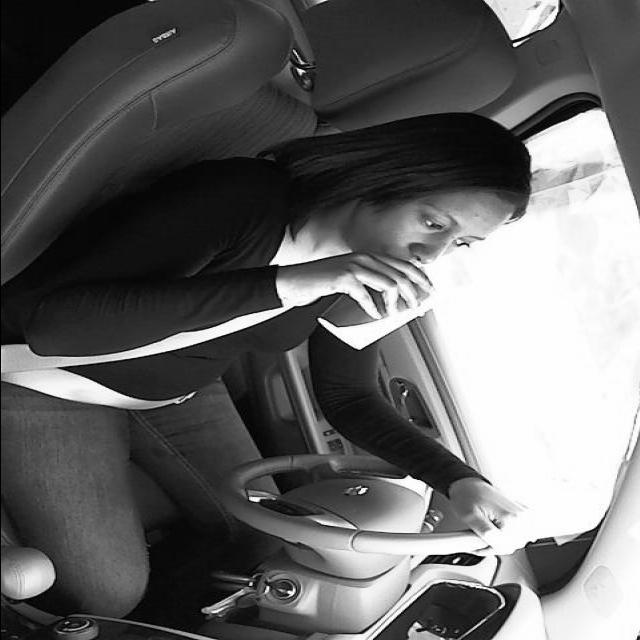drinking: (318, 260, 438, 352)
